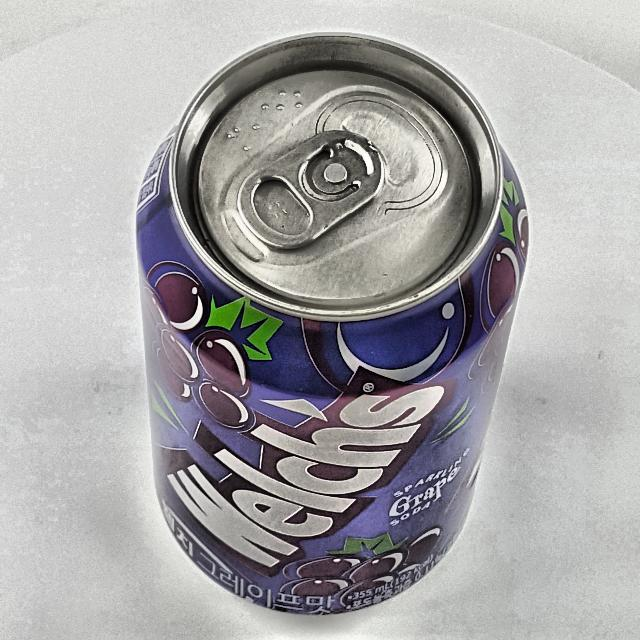welchs: (136, 34, 529, 614)
